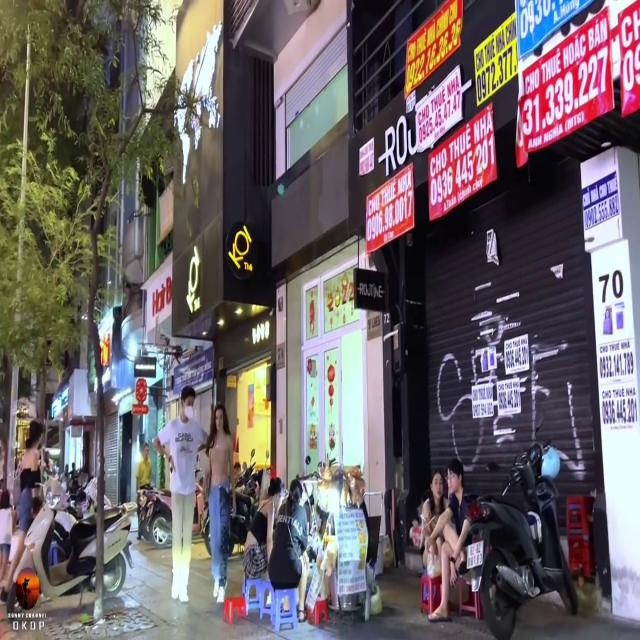bien_trang: (467, 543, 484, 569)
